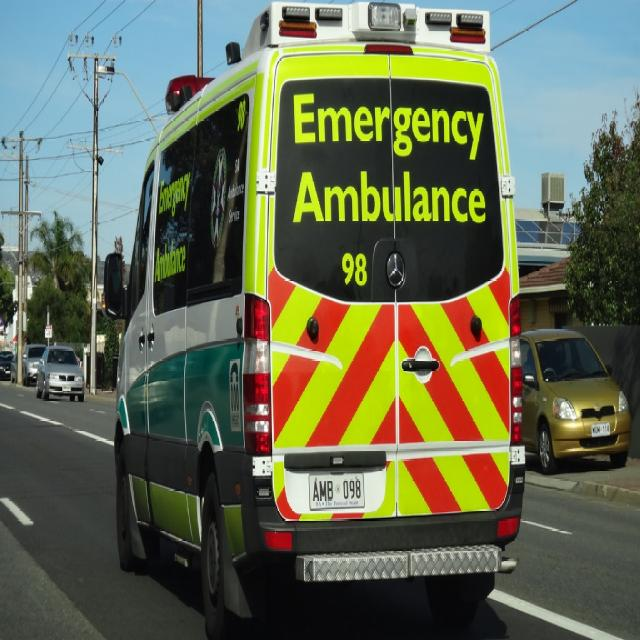Ambulance: (103, 1, 526, 640)
